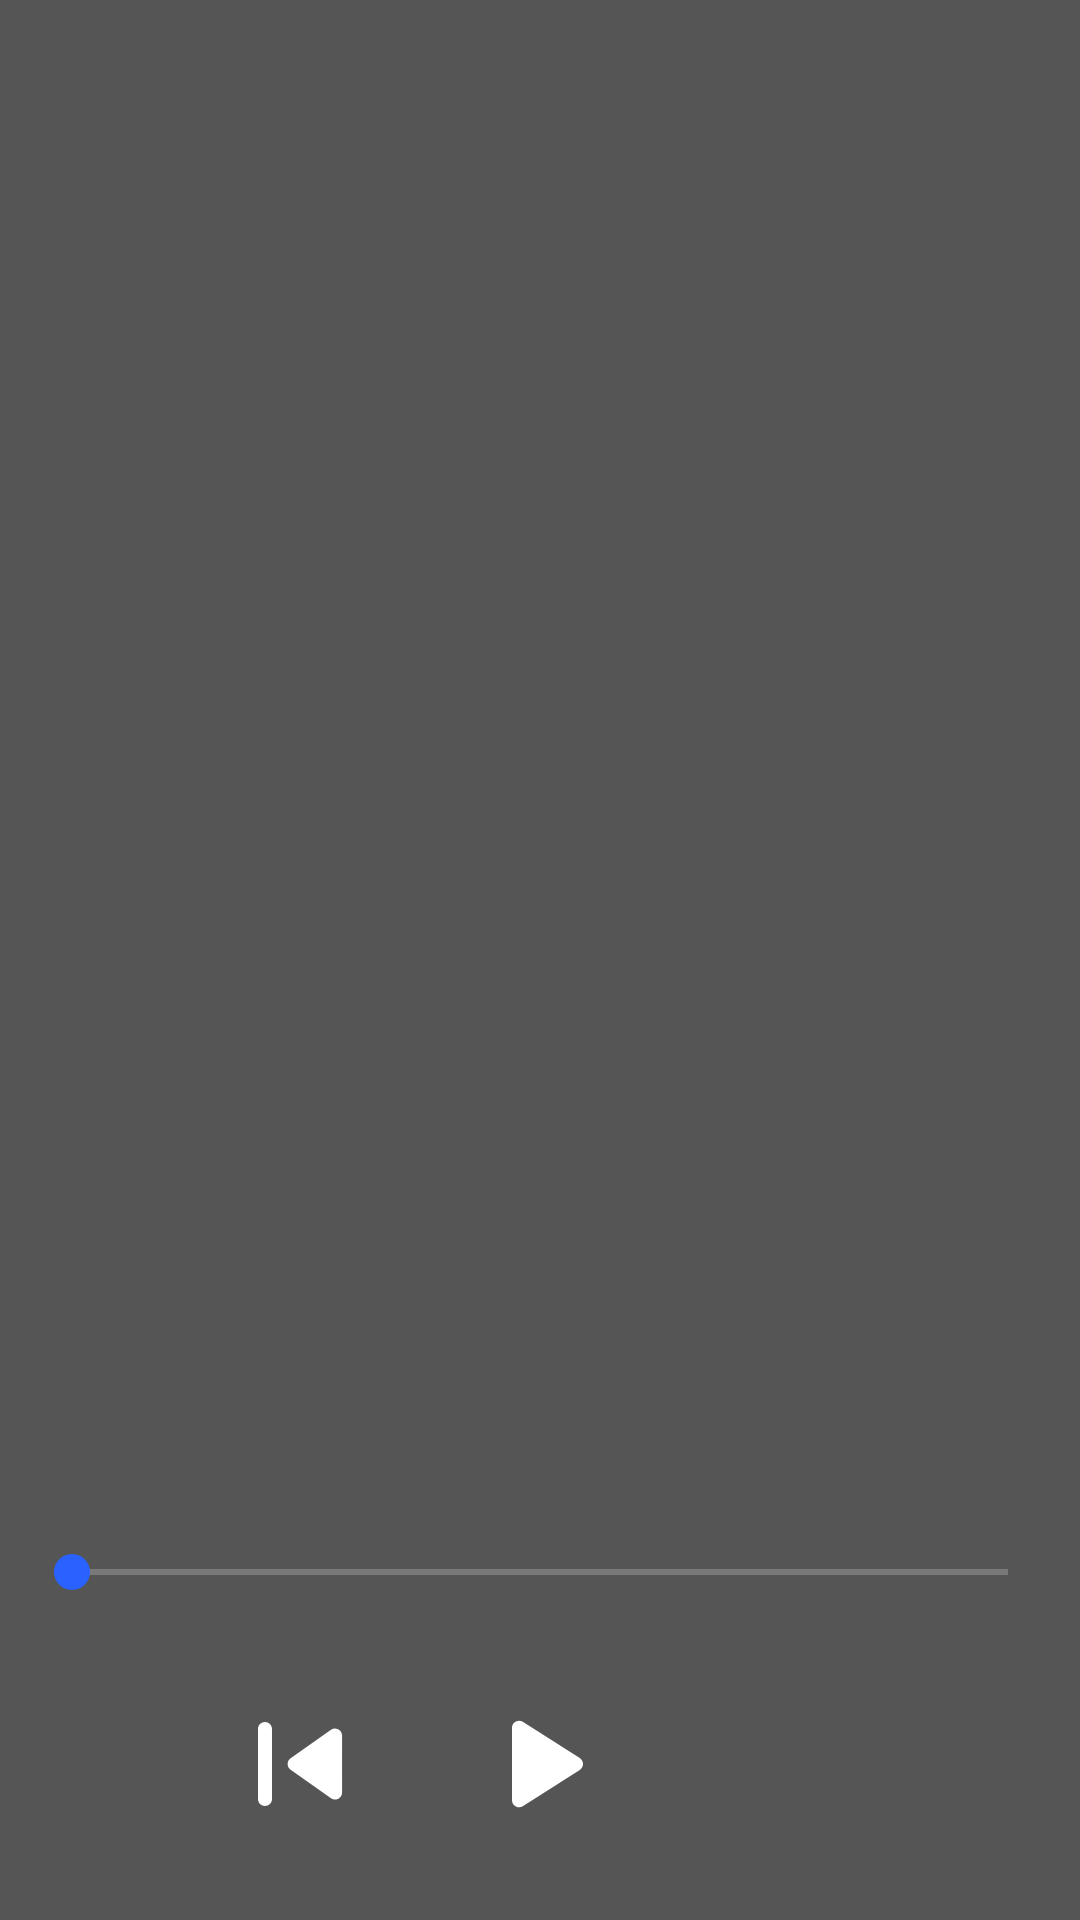

Where icons sit on this 1080 x 1920 app screen, as (x1,y1,x2,y2):
Play/Pause: (512,1720,583,1808)
Skip To Previous Song: (258,1722,342,1806)
